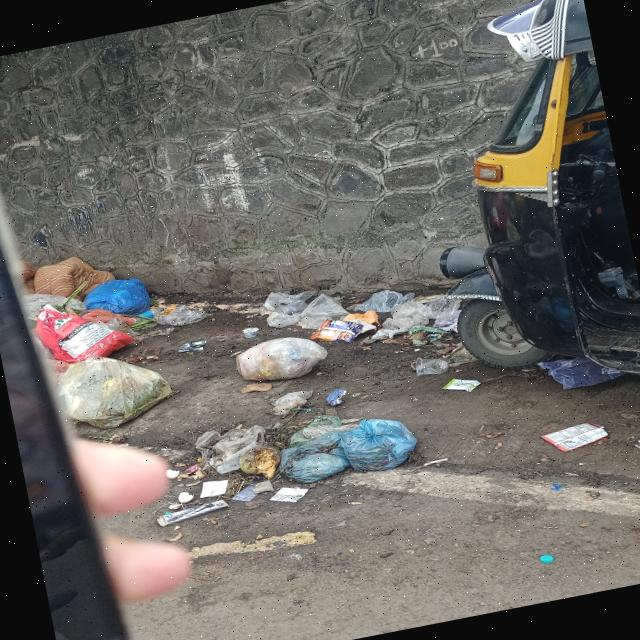garbage: (28, 194, 474, 530)
